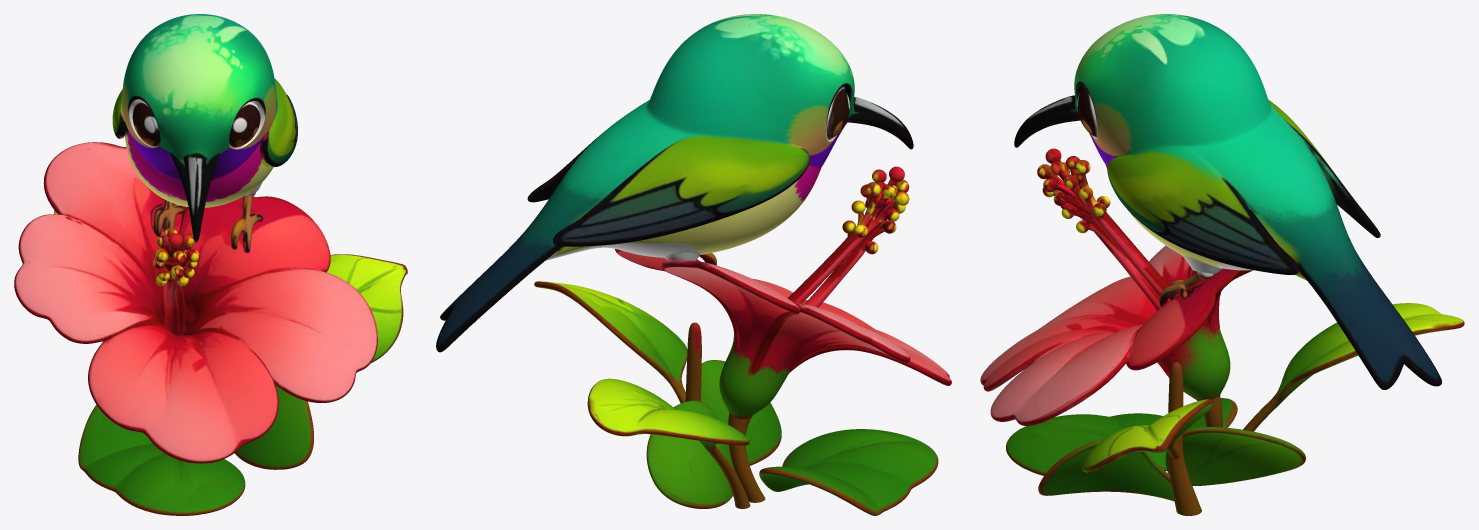
The model's file is fork-tailed-sunbird.glb.
The picture shows the model from 3 angles, left to right: view 1: azimuth 30°, elevation 25°; view 2: azimuth 150°, elevation 25°; view 3: azimuth 270°, elevation 25°; orthographic projection. The views are drawn at different scales.
Parts seen in each view (by area): view 1: node_0; view 2: node_0; view 3: node_0.
Part boxes in pixels (x1,y1,x2,y2): node_0: (14,14,407,515); node_0: (436,14,951,515); node_0: (980,14,1464,515).
Bounding box in the file's own units: 0.7749 × 0.8549 × 0.817.
Materials: 1 (1 with a texture image).
